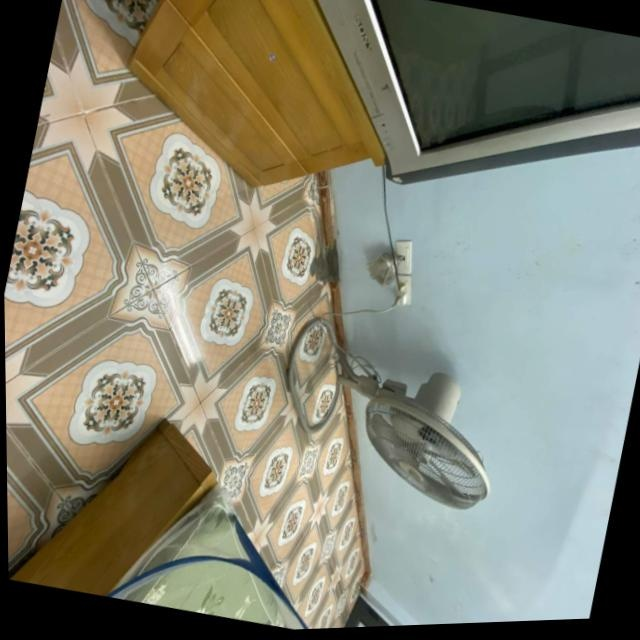outlet: (388, 236, 417, 276), (389, 273, 415, 308)
